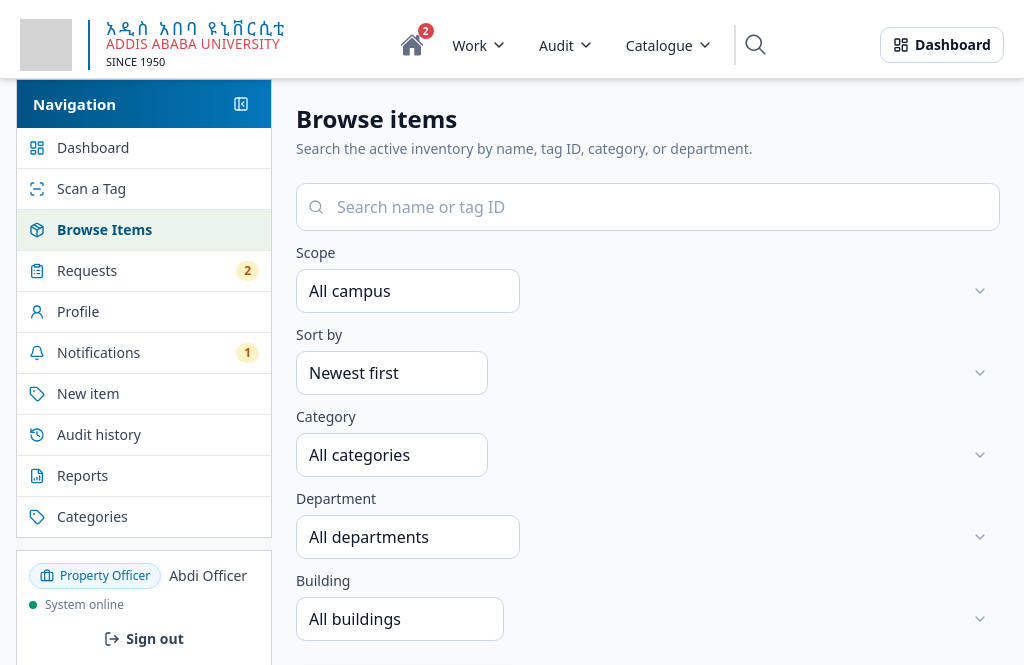
Test case: the register is behind sign-in › sends a signed-out browse screen back to the form after sign-out
expect the search field is shown: met, box x1=296 y1=183 x2=1000 y2=231
// The sidebar's one sign-out action, as a real user clicks it.
Click the button "Sign out": (144, 639) x1=29 y1=621 x2=259 y2=657
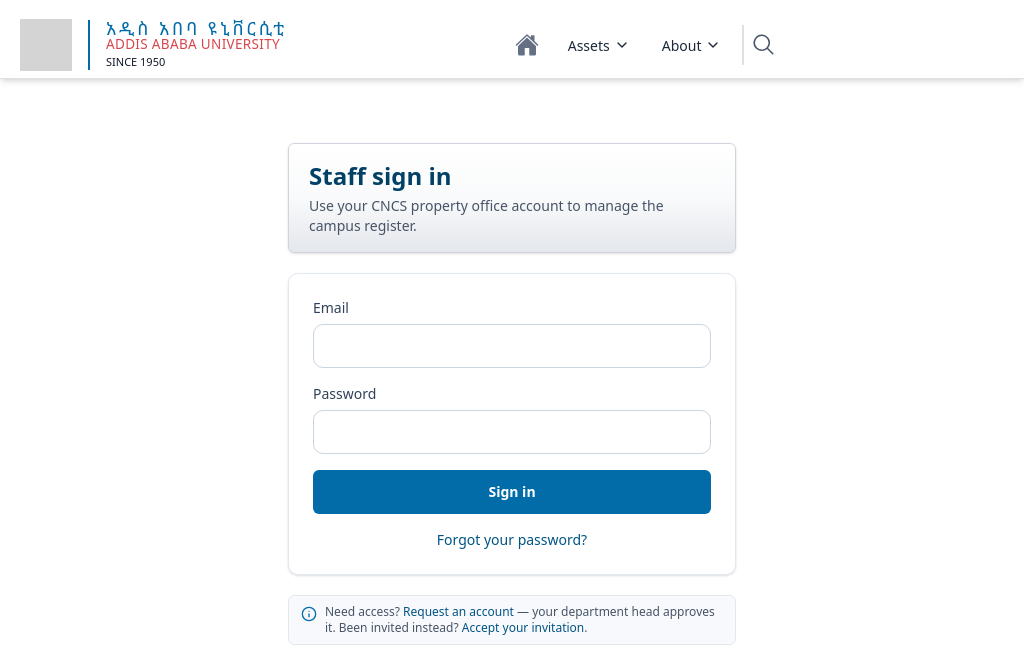
expect the heading "Staff sign in" is shown: met, box x1=309 y1=159 x2=452 y2=192
